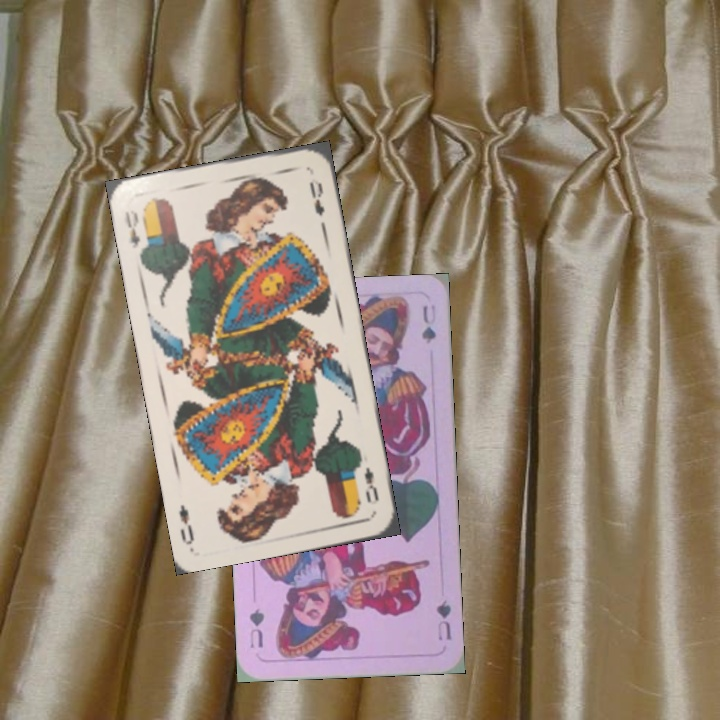EO: (353, 455, 382, 505), (121, 205, 143, 251)
GU: (432, 595, 454, 643)
